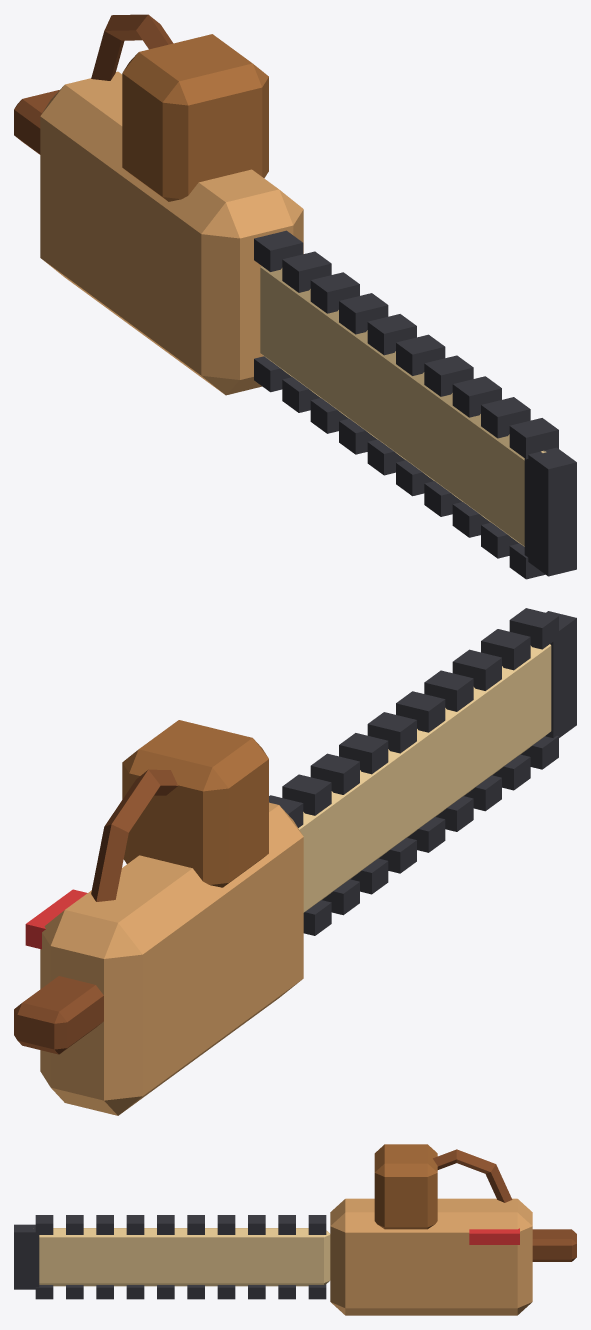
Rendered from WoodChainsaw.fbx.
The picture shows the model from 3 angles, top to bottom: view 1: azimuth 30°, elevation 25°; view 2: azimuth 150°, elevation 25°; view 3: azimuth 270°, elevation 25°; orthographic projection. The views are drawn at different scales.
Visible parts, largest first — view 1: WoodChainsaw; view 2: WoodChainsaw; view 3: WoodChainsaw.
Boxes of the visible parts, <box> form: WoodChainsaw: <box>14,14,576,579</box>; WoodChainsaw: <box>14,608,576,1115</box>; WoodChainsaw: <box>14,1144,576,1315</box>.
Bounding box in the file's own units: 0.57 × 1.39 × 4.45.
1 material, 1 textured.
